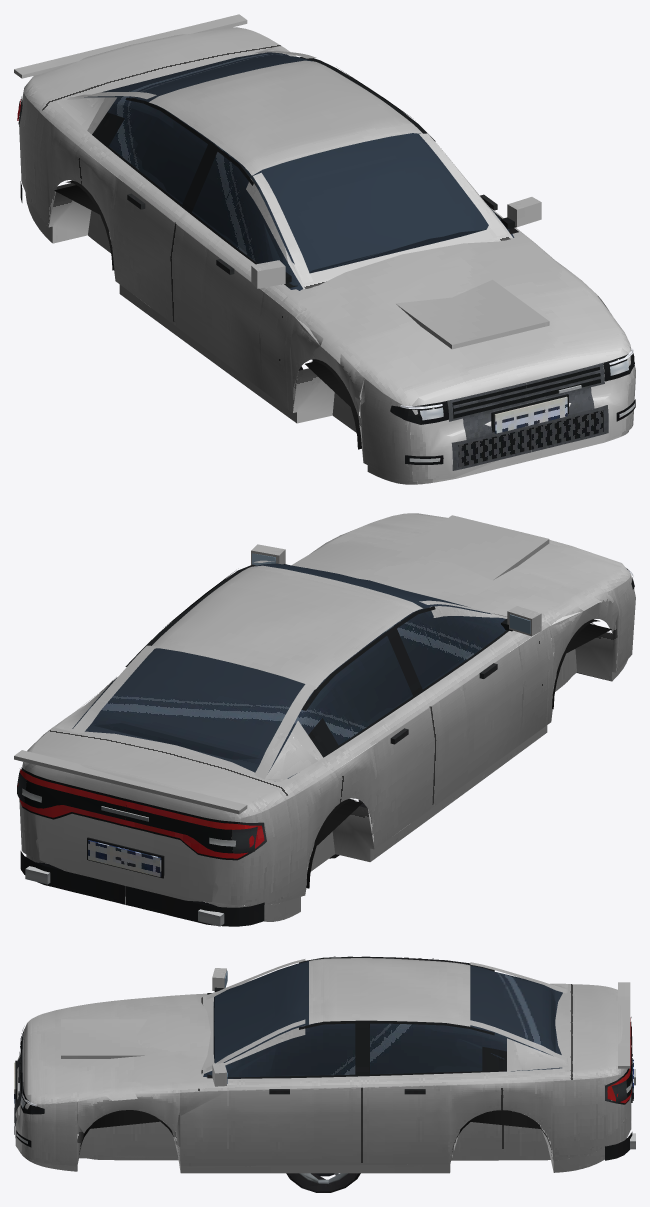
Rendered from chaser18.glb.
3 views of the same model, one above another, from view 1: azimuth 30°, elevation 25°; view 2: azimuth 150°, elevation 25°; view 3: azimuth 270°, elevation 25° (orthographic). The views are drawn at different scales.
Visible parts, largest first — view 1: Paint, Body, Paint_far, Body_far; view 2: Paint, Body, Paint_far, Body_far; view 3: Paint, Body, Paint_far, Body_far, Wheel, Wheel_far.
Boxes of the visible parts, x1,y1,x2,y2 form: Paint: [14, 14, 635, 484]; Body: [17, 52, 635, 470]; Paint_far: [14, 20, 610, 460]; Body_far: [20, 70, 633, 433]; Paint: [14, 513, 635, 921]; Body: [17, 553, 634, 926]; Paint_far: [14, 540, 619, 901]; Body_far: [19, 567, 633, 926]; Paint: [15, 958, 631, 1173]; Body: [14, 957, 633, 1160]; Paint_far: [20, 972, 631, 1172]; Body_far: [14, 956, 635, 1149]; Wheel: [286, 1173, 360, 1192]; Wheel_far: [298, 1173, 356, 1187].
Size of the model in its own units: 2.04 by 1.84 by 5.09.
3 materials, 3 textured.
